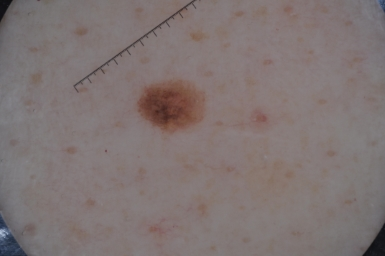melanoma: (139, 81, 195, 132)
